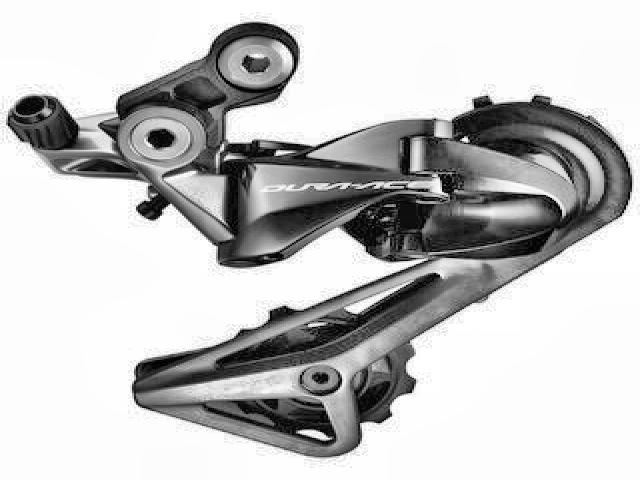rear_derailleur: (3, 22, 633, 458)
